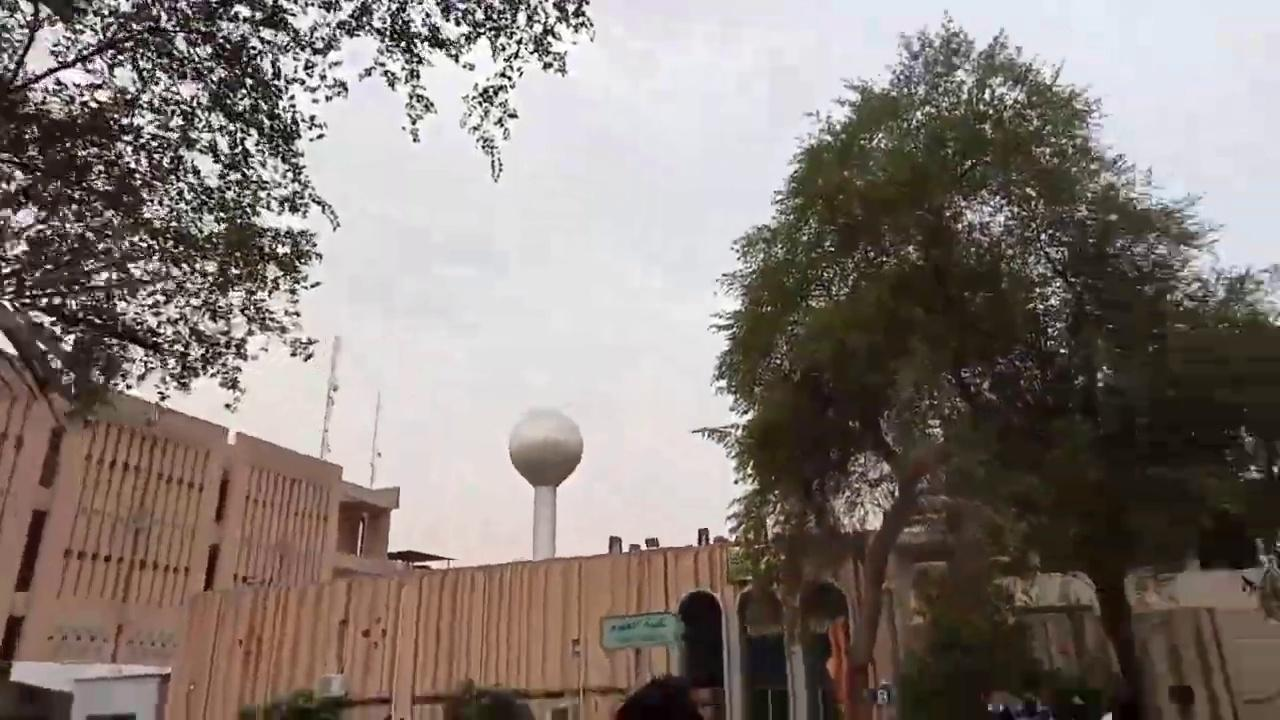tree: (689, 9, 1255, 717), (0, 0, 595, 420)
